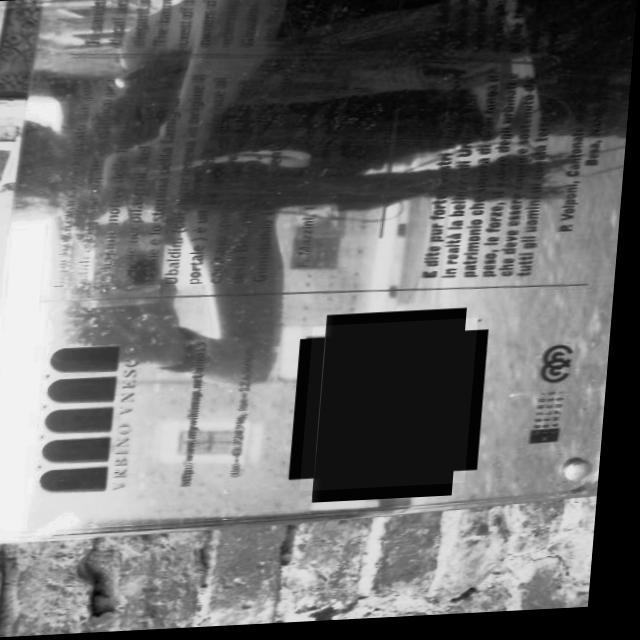qr_code: (308, 322, 484, 494)
